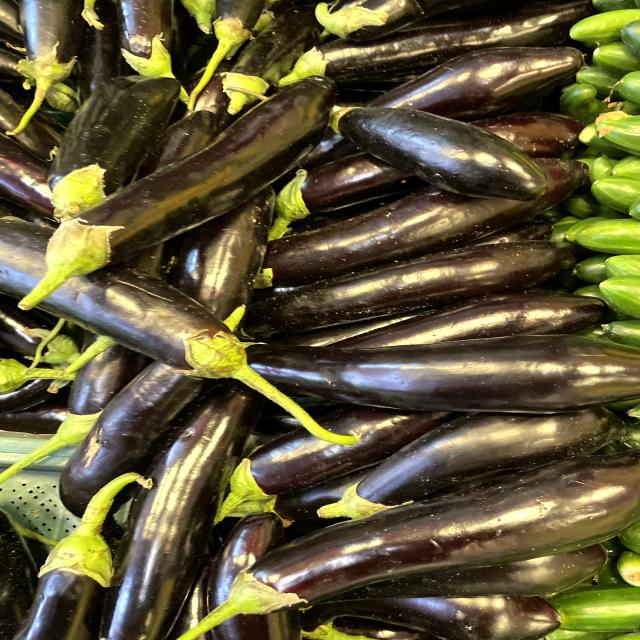eggplant: (173, 442, 638, 640), (16, 73, 353, 320), (324, 94, 560, 207)
